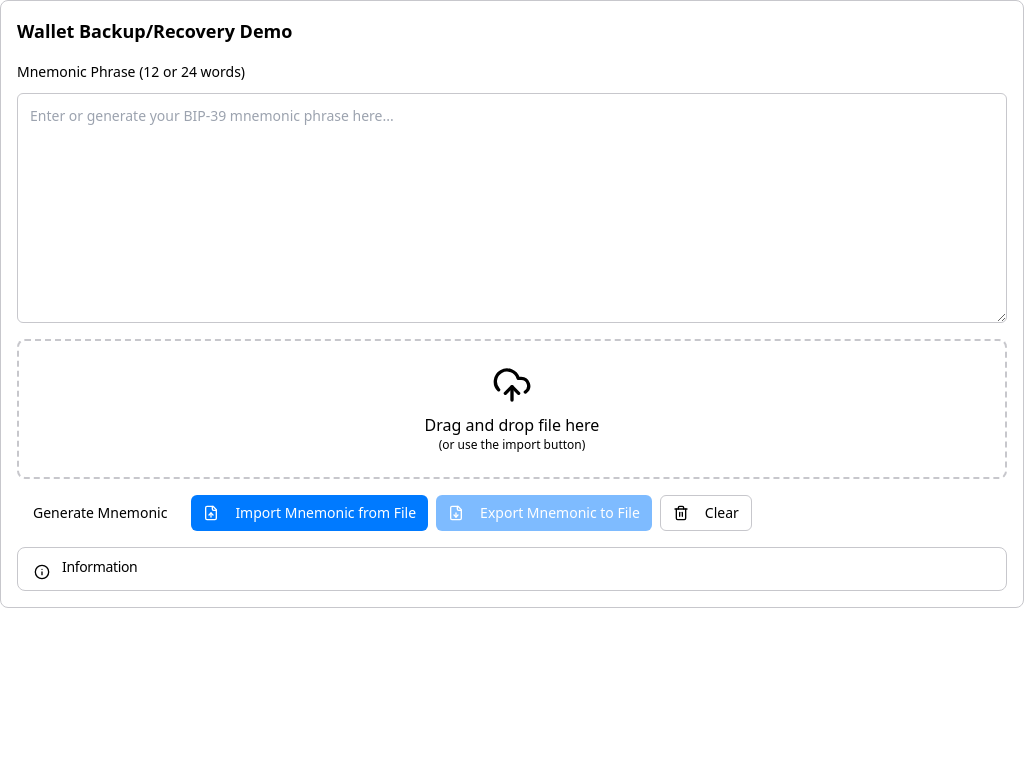
it: WalletBackupDemoCard Component › Export Flow › should handle successful export flow
The image size is (1024, 768).
// Enable button and click
In the text box with test id "mnemonic-input": (512, 208) [18,94,1006,322], type "legal winner thank year wave sausage worth useful legal winner thank yellow"
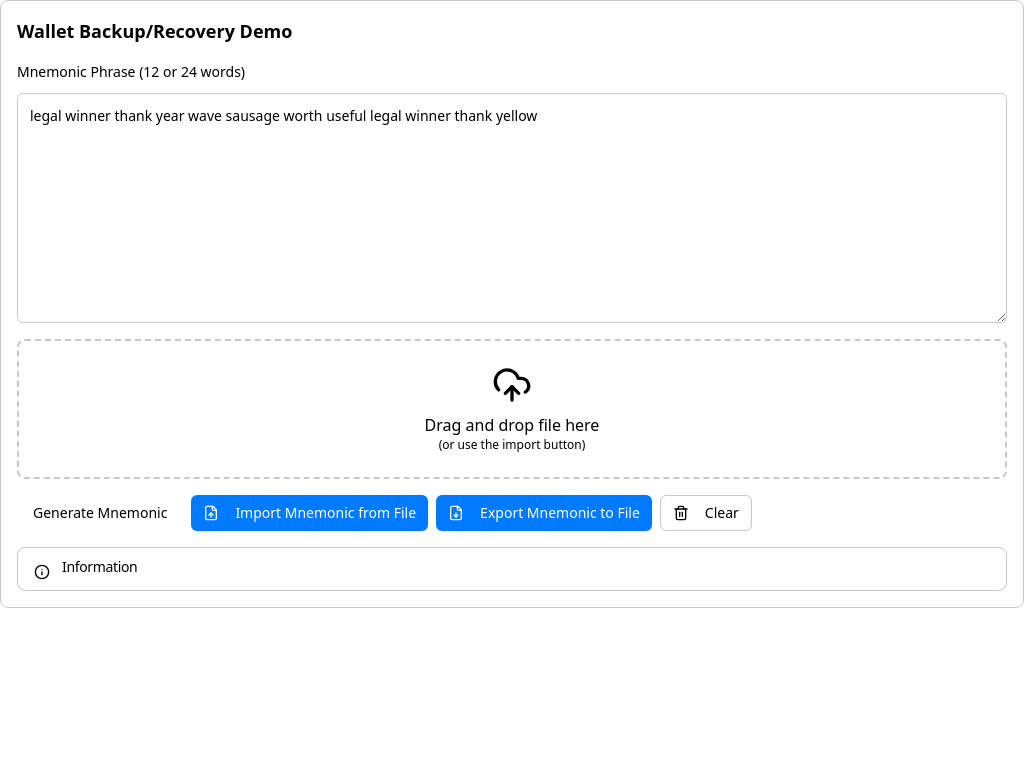
Now the button with test id "export-mnemonic-button" is enabled
Click the button with test id "export-mnemonic-button": click(544, 513) [436,495,652,531]
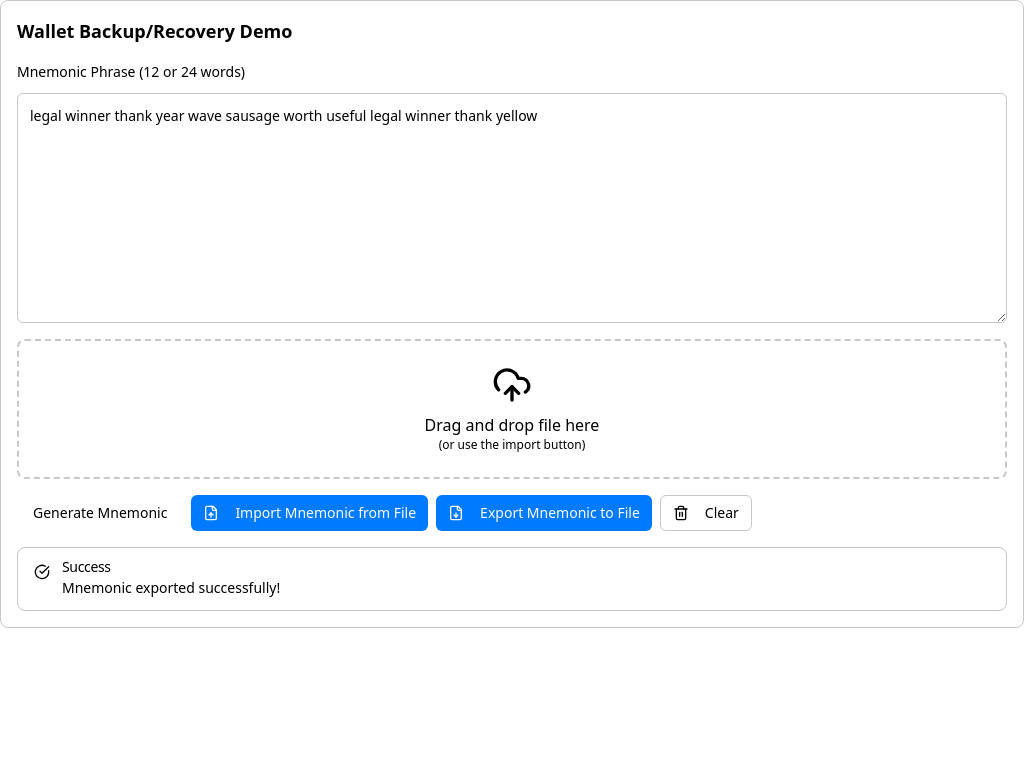
Now the heading "Success" is shown, box [62,557,111,576]
Now the text "Mnemonic exported successfully!" is shown, box [62,578,280,597]
